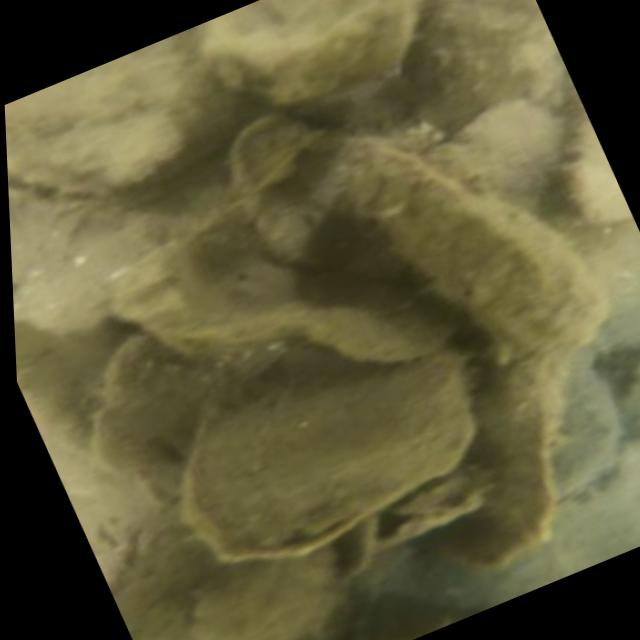Oyster-Indeterminate: (182, 340, 476, 563), (76, 200, 468, 350), (349, 139, 616, 355), (5, 29, 246, 206), (419, 356, 575, 569), (226, 110, 411, 277), (204, 0, 436, 105), (439, 97, 565, 218)
